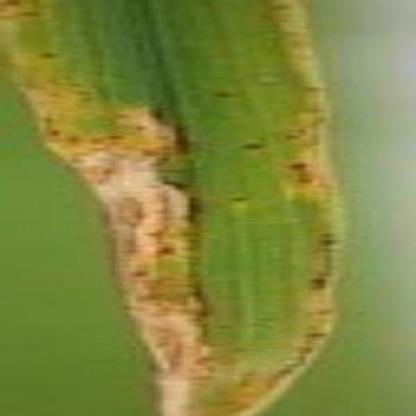Blight: (11, 83, 237, 416)
